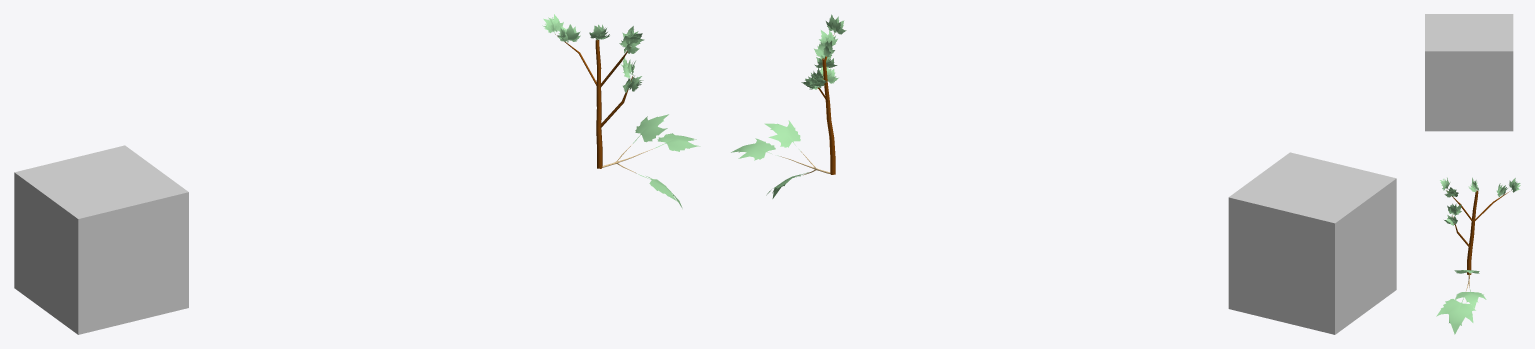
The model's file is FinalTree5.fbx.
The picture shows the model from 3 angles, left to right: view 1: azimuth 30°, elevation 25°; view 2: azimuth 150°, elevation 25°; view 3: azimuth 270°, elevation 25°; orthographic projection. The views are drawn at different scales.
Visible parts, largest first — view 1: Cube, Árbol, palmate.003; view 2: Cube, Árbol, palmate.003, palmate.001; view 3: Cube, palmate.002, Árbol, palmate.001, palmate.003.
Part boxes in pixels (x1,y1,x2,y2): Cube: (14, 145, 188, 334); Árbol: (555, 34, 632, 168); palmate.003: (633, 114, 668, 143); Cube: (1228, 152, 1396, 334); Árbol: (817, 34, 835, 174); palmate.003: (764, 120, 800, 150); palmate.001: (731, 138, 778, 160); Cube: (1425, 14, 1513, 131); palmate.002: (1436, 297, 1475, 334); Árbol: (1447, 190, 1509, 274); palmate.001: (1455, 289, 1486, 308); palmate.003: (1454, 270, 1479, 274).
Bounding box in the file's own units: 1185 × 349 × 217.
